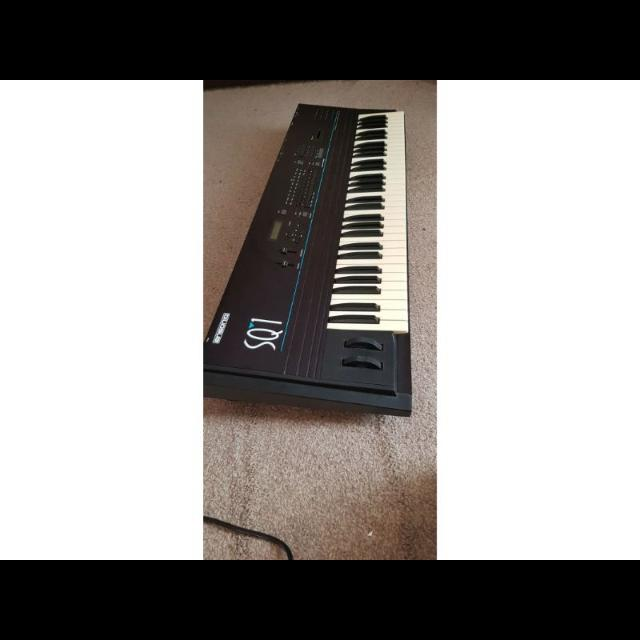Electronic-Keyboard: (210, 100, 422, 420)
